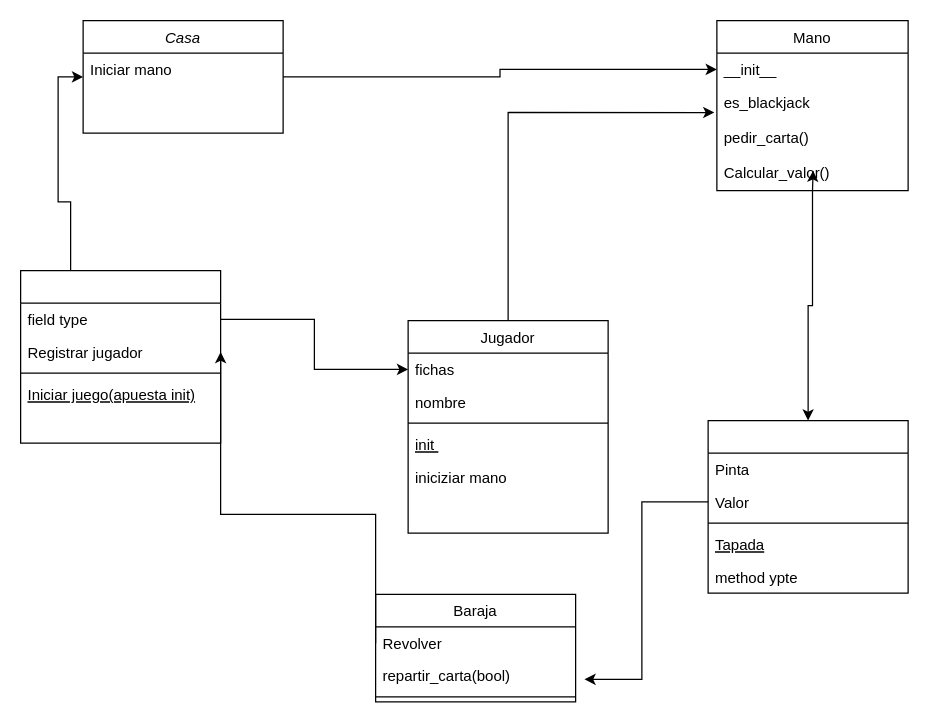
The diagram is 929 pixels wide and 723 high, and some of its shapes have lost their labels. Here are the shapes that lost their labels. From the top down, the box of each, then its label:
(19, 269, 221, 443): Blackjack
(707, 419, 908, 593): Carta
